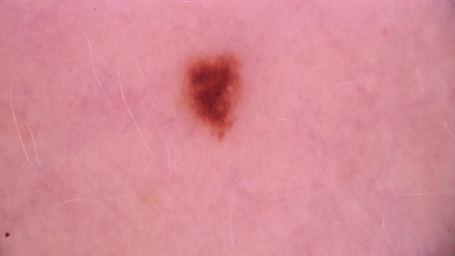melanoma: (191, 56, 242, 138)
